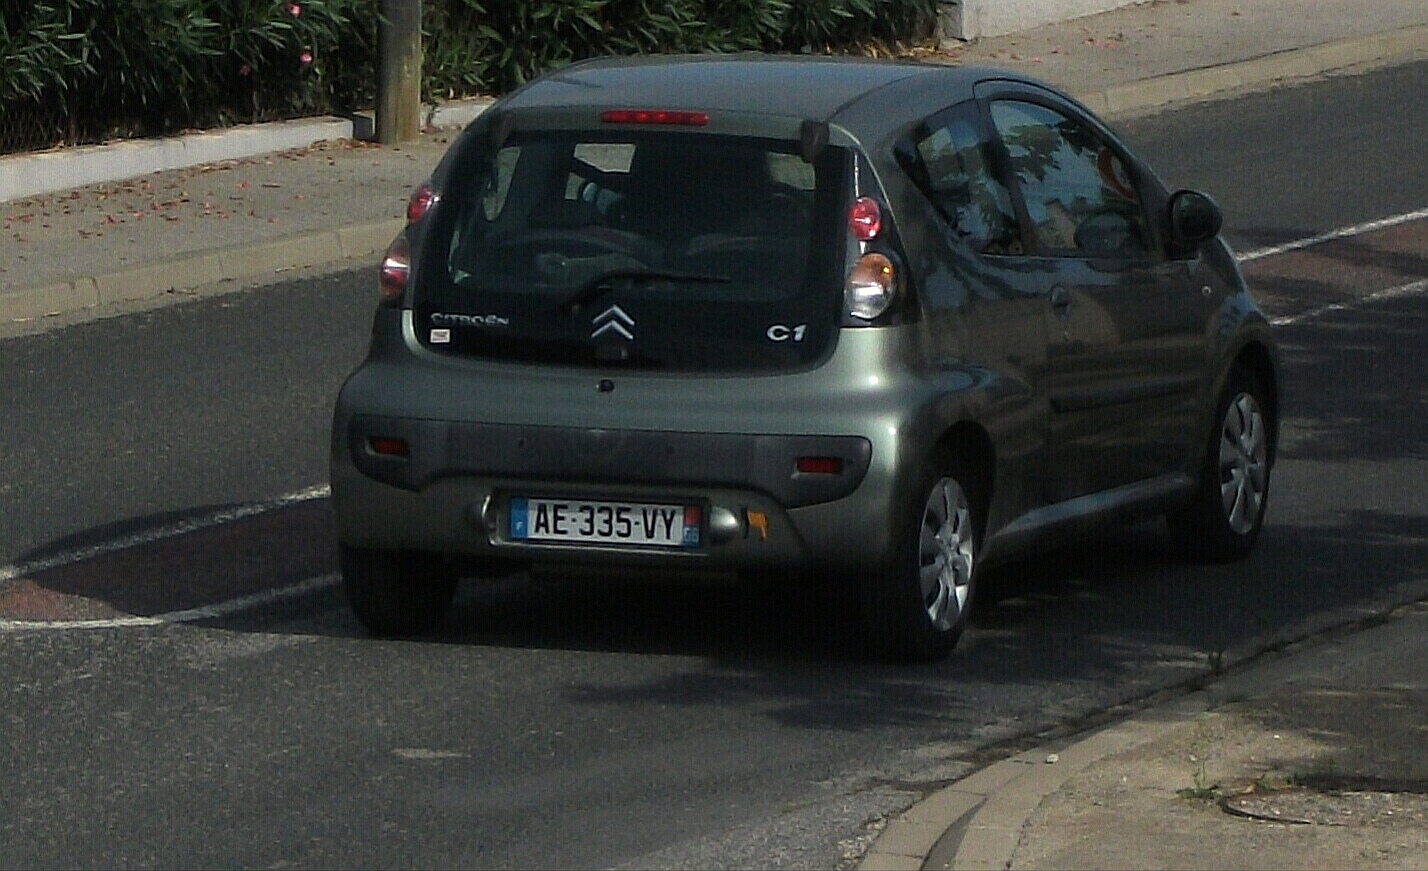licence plate: (505, 494, 705, 550)
